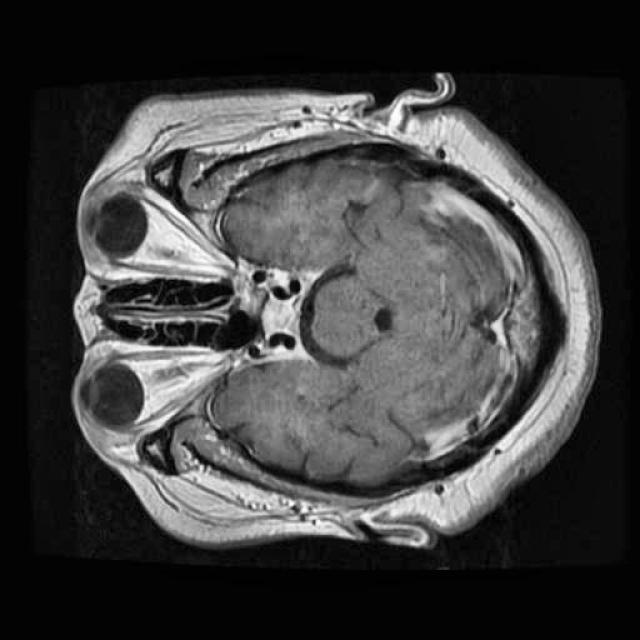Tumor: (256, 286, 308, 345)
